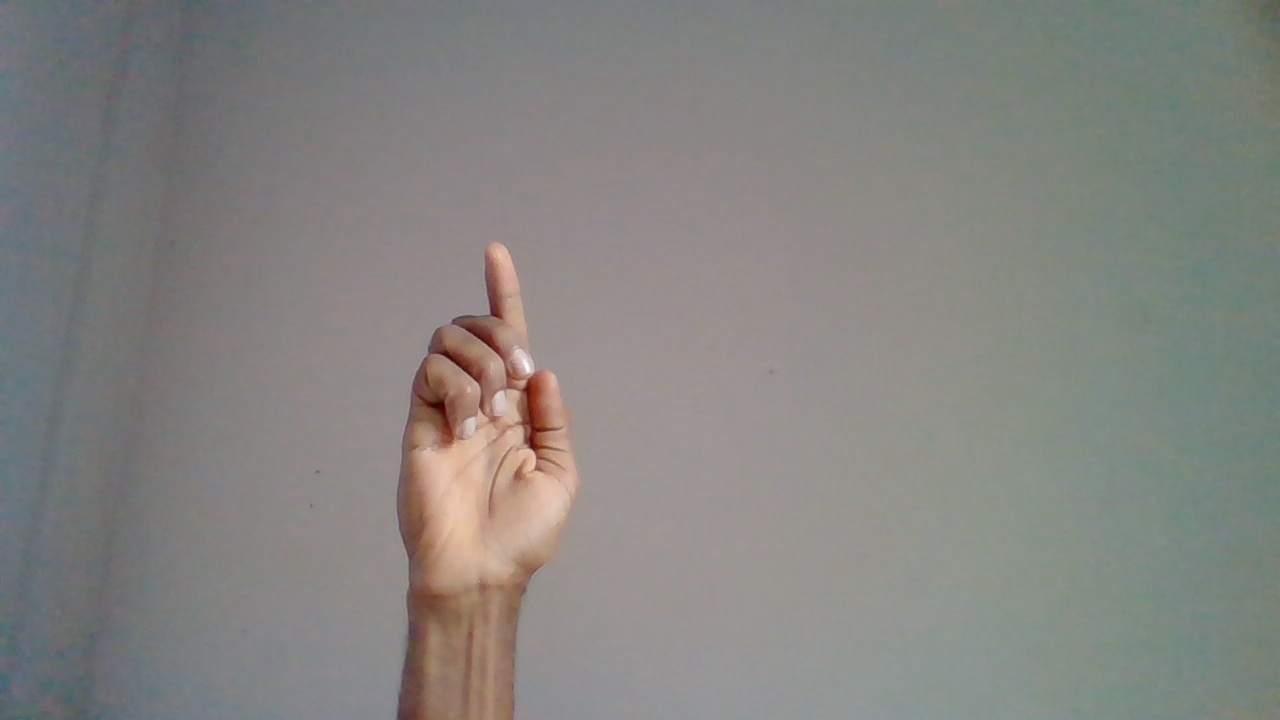qe: (394, 243, 584, 649)
